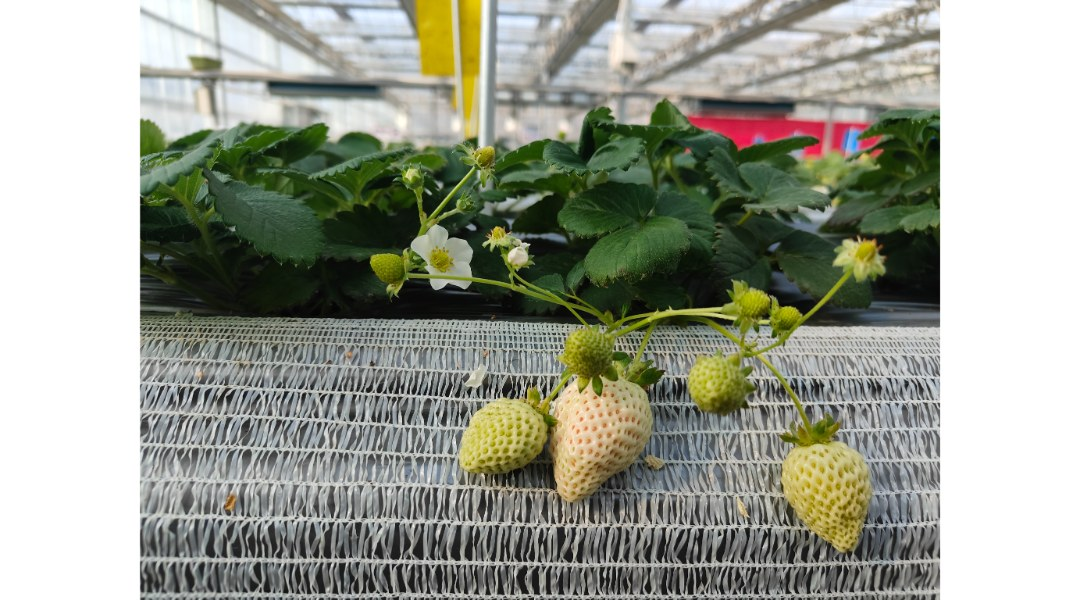berry: (546, 368, 662, 513), (781, 423, 872, 554), (449, 397, 556, 477), (683, 341, 753, 419), (561, 324, 616, 385), (830, 236, 895, 277), (725, 279, 768, 323), (368, 251, 412, 288), (761, 300, 803, 338), (458, 142, 499, 177), (484, 217, 512, 249), (400, 161, 427, 186)
flower: (407, 226, 481, 295), (504, 247, 535, 272)
strain: (623, 301, 719, 334), (763, 362, 811, 418), (815, 274, 847, 321), (480, 279, 511, 301), (639, 333, 653, 366)
